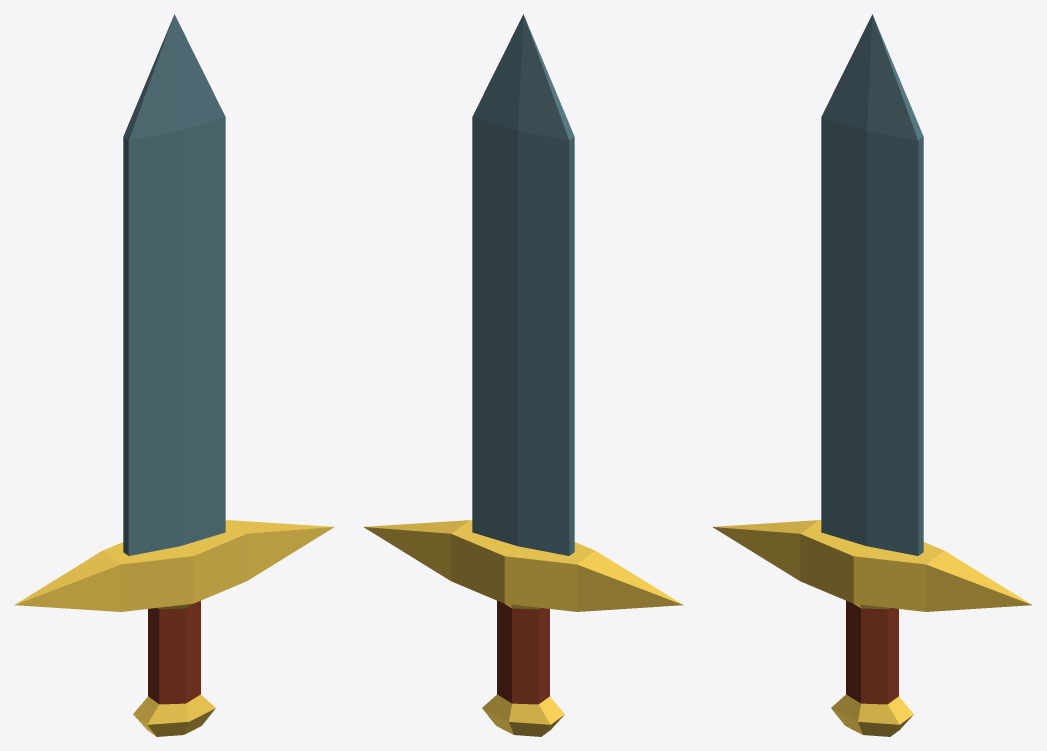
File: Sword.fbx
The picture shows the model from 3 angles, left to right: view 1: azimuth 30°, elevation 25°; view 2: azimuth 150°, elevation 25°; view 3: azimuth 330°, elevation 25°; orthographic projection.
Parts seen in each view (by area): view 1: Cube; view 2: Cube; view 3: Cube.
Boxes of the visible parts, x1,y1,x2,y2 form: Cube: [14, 14, 333, 736]; Cube: [364, 14, 683, 736]; Cube: [713, 14, 1032, 736].
Size of the model in its own units: 63.3 by 135 by 12.99.
